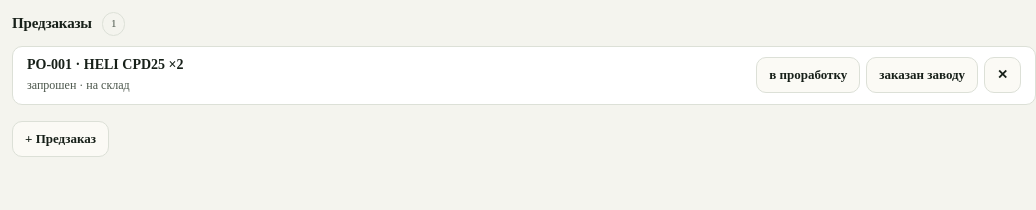
Test: формы предзаказов › обрезает причину отмены и показывает отказ Core
Click the button "✕" at [1003, 75], box [984,57,1021,93]
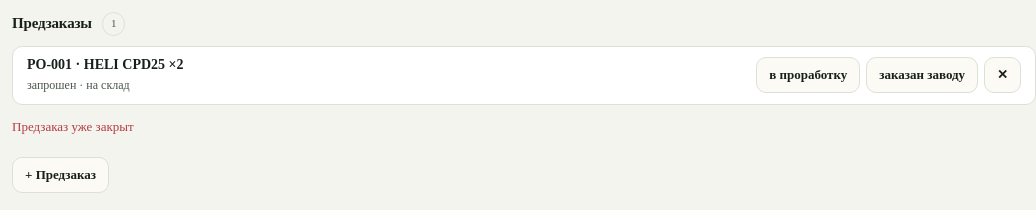
Check: the text "Предзаказ уже закрыт" is shown, box [12,118,134,134]
